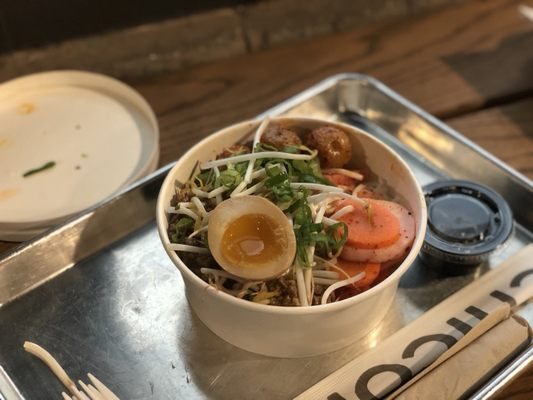burger: (22, 340, 123, 400)
pizza: (420, 180, 514, 266)
salad: (358, 271, 533, 400), (21, 340, 122, 400)
sandwich: (0, 161, 176, 312)
sushi: (153, 109, 428, 359), (0, 70, 163, 243), (420, 180, 514, 266)
